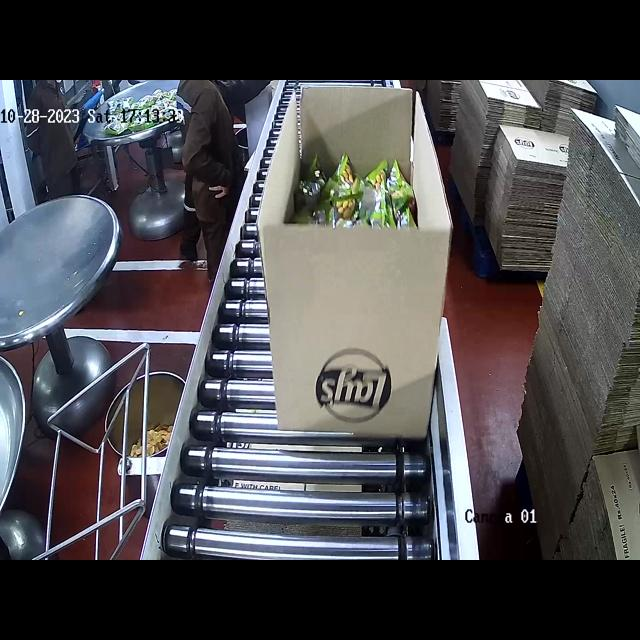yogurt: (298, 140, 430, 240)
